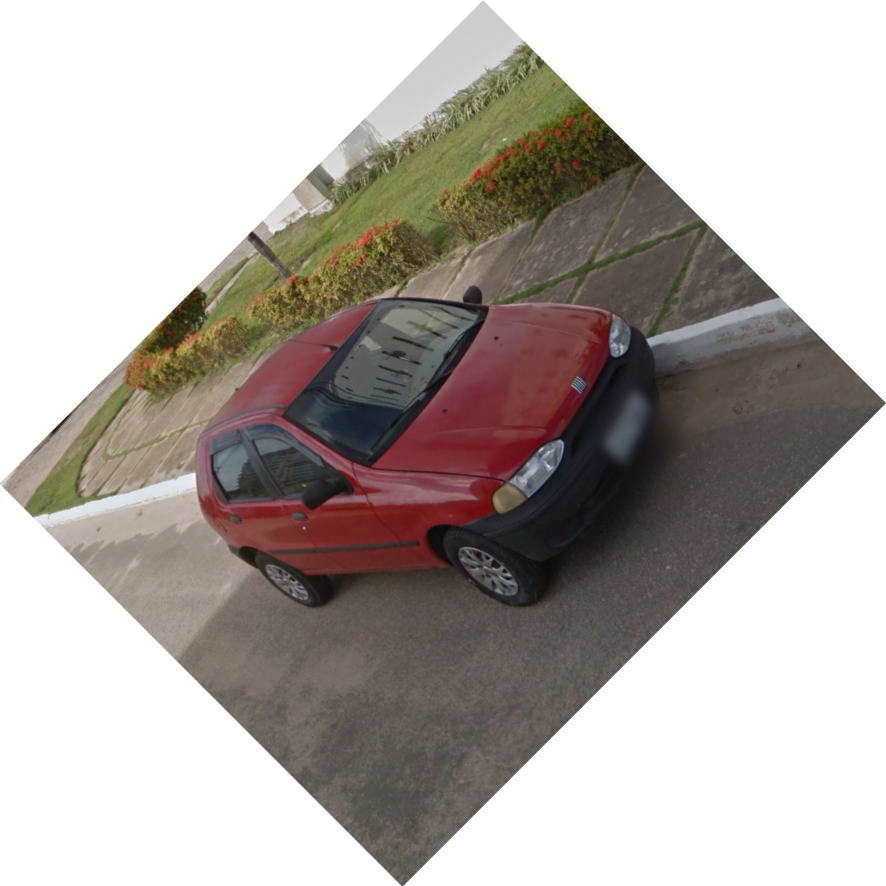car: (191, 284, 665, 610)
